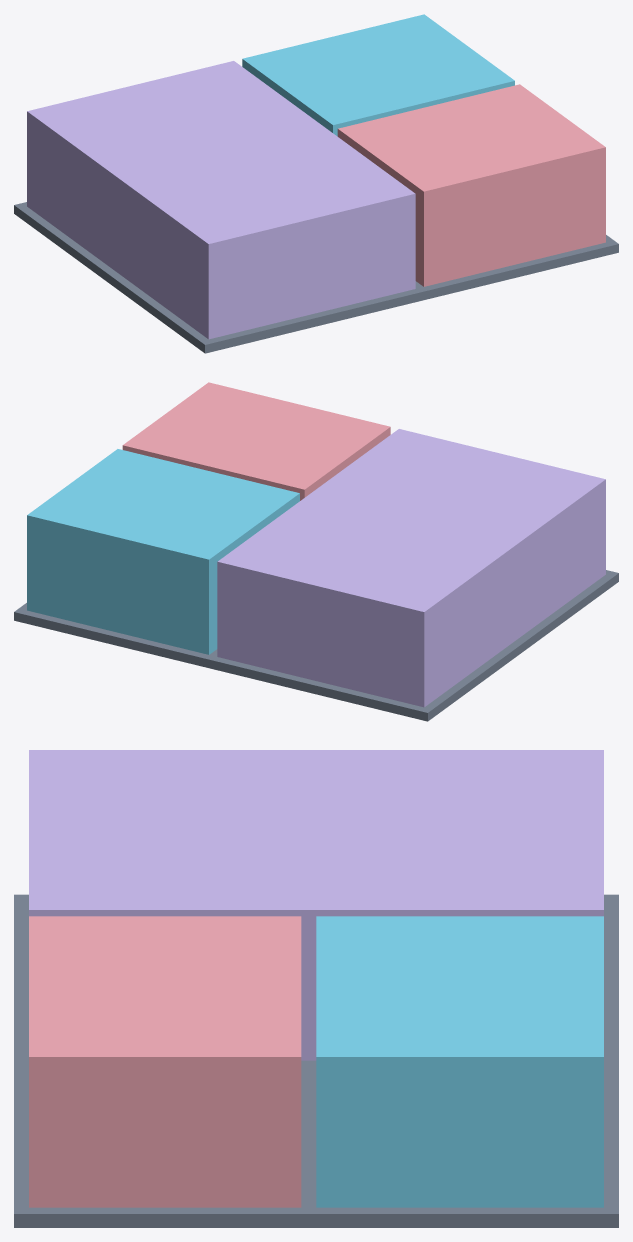
The model's file is sample-home.glb.
3 renders of one model, top to bottom at view 1: azimuth 30°, elevation 25°; view 2: azimuth 150°, elevation 25°; view 3: azimuth 270°, elevation 25°, orthographic. The views are drawn at different scales.
Visible parts, largest first — view 1: area_living_room, area_bedroom, area_kitchen, floor_slab; view 2: area_living_room, area_kitchen, area_bedroom, floor_slab; view 3: area_living_room, area_kitchen, area_bedroom, floor_slab.
Part boxes in pixels (bbox=[...]): area_living_room: bbox=[27, 61, 415, 339]; area_bedroom: bbox=[337, 84, 605, 286]; area_kitchen: bbox=[242, 14, 514, 136]; floor_slab: bbox=[14, 202, 618, 353]; area_living_room: bbox=[217, 429, 605, 707]; area_kitchen: bbox=[27, 449, 299, 654]; area_bedroom: bbox=[122, 382, 390, 500]; floor_slab: bbox=[14, 570, 618, 721]; area_living_room: bbox=[29, 750, 603, 1060]; area_kitchen: bbox=[316, 916, 603, 1207]; area_bedroom: bbox=[29, 916, 301, 1207]; floor_slab: bbox=[14, 894, 618, 1227].
Size of the model in its own units: 10 by 2.4 by 8.
